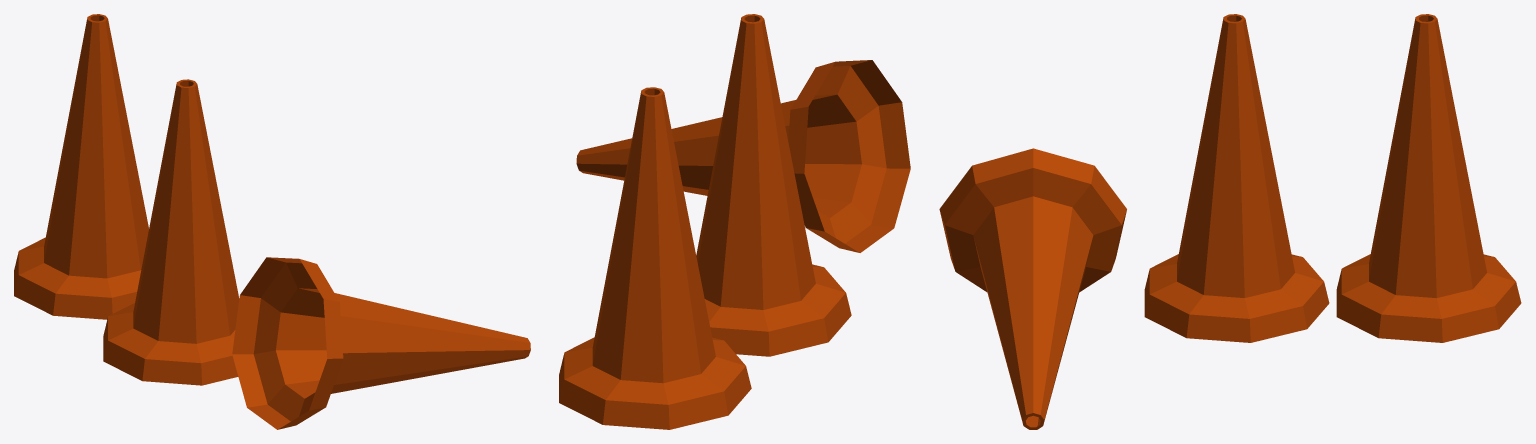
The picture shows the model from 3 angles, left to right: view 1: azimuth 30°, elevation 25°; view 2: azimuth 150°, elevation 25°; view 3: azimuth 270°, elevation 25°; orthographic projection. The views are drawn at different scales.
Visible parts, largest first — view 1: Circle.003, Circle.002, Circle.001; view 2: Circle.001, Circle.002, Circle.003; view 3: Circle.001, Circle.002, Circle.003.
Part boxes in pixels (x1,y1,x2,y2): Circle.003: [232, 257, 530, 429]; Circle.002: [103, 79, 239, 385]; Circle.001: [14, 14, 148, 319]; Circle.001: [559, 87, 751, 429]; Circle.002: [696, 14, 851, 356]; Circle.003: [576, 60, 910, 252]; Circle.001: [1336, 14, 1521, 342]; Circle.002: [1144, 14, 1329, 342]; Circle.003: [939, 148, 1126, 429].
Bounding box in the file's own units: 73.43 × 57.55 × 107.
